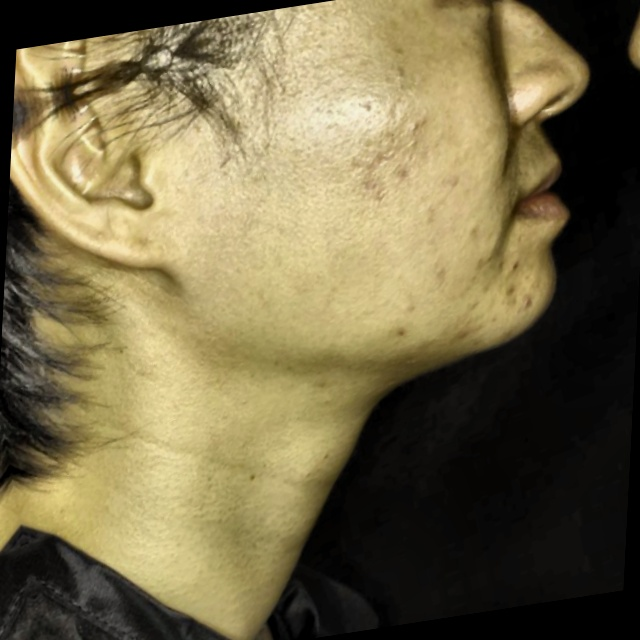comedone: (435, 309, 482, 363), (500, 272, 548, 322)
